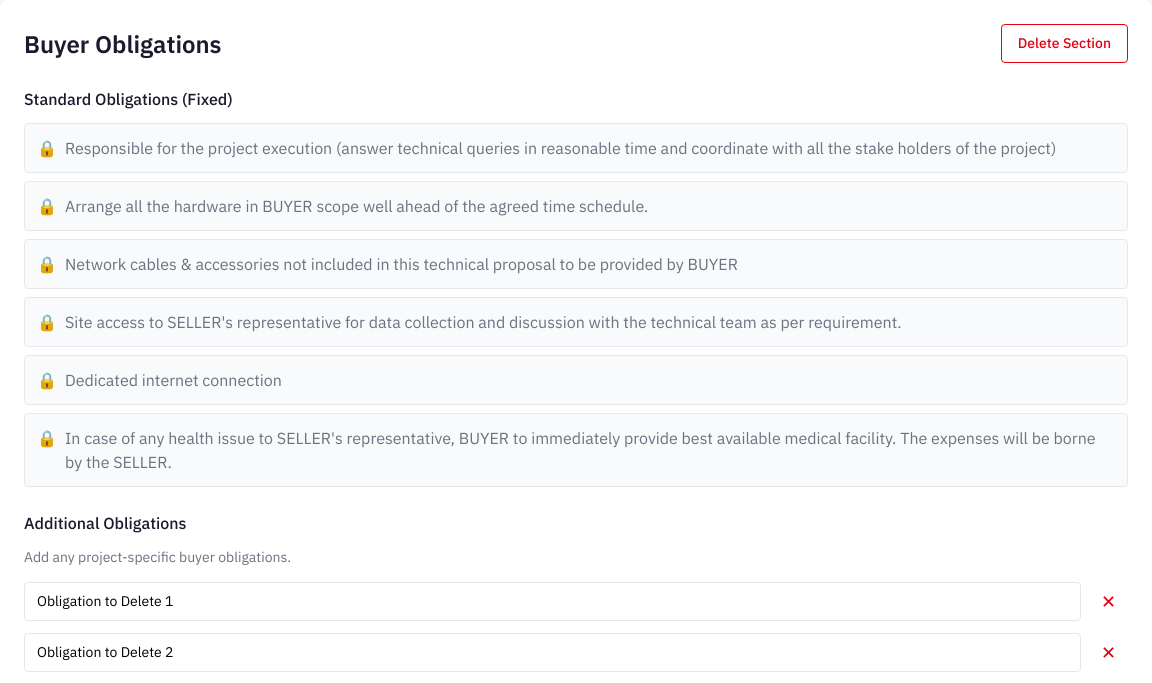
Test: BuyerObligationsSection Preservation - Manual Input Behavior › Property 4: Preservation - Manual Delete Operation › should allow user to manually delete an obligation via DynamicList delete button
User clicks the second delete button (delete "Obligation to Delete 2")
Click the 2nd button titled "Delete item" at (1108,652), box [1089,631,1128,674]
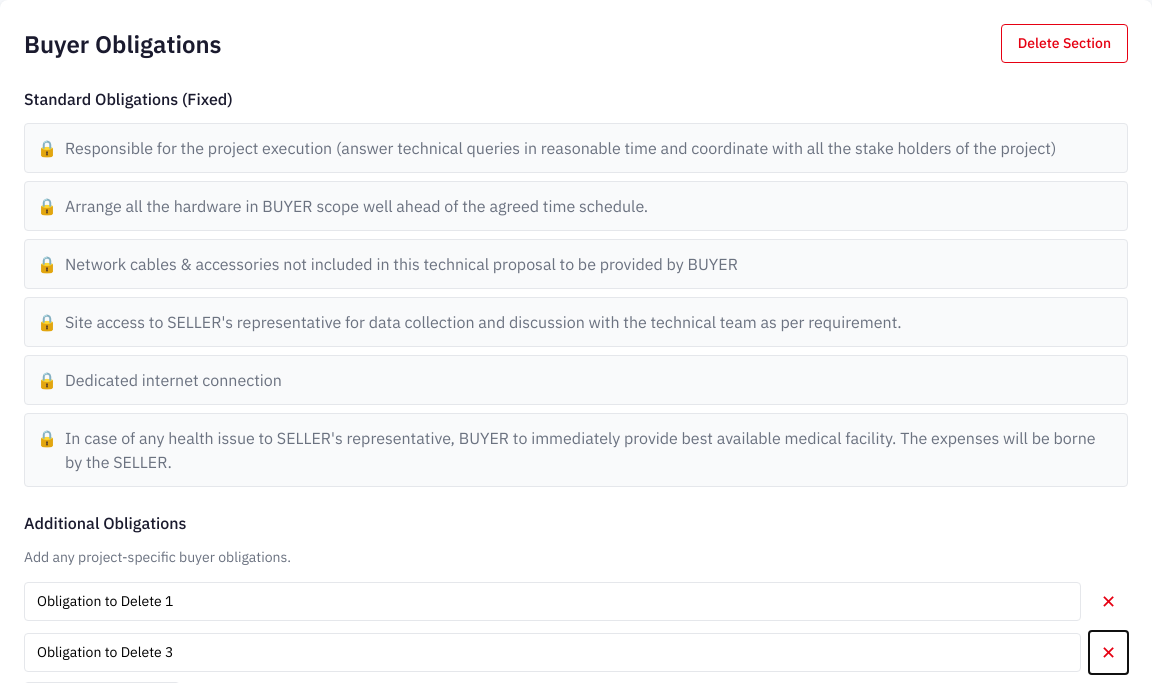
Expected: the 1st field with placeholder "Item 1" holds "Obligation to Delete 1", [24,582,1081,621]
Expected: the number of fields with placeholder "Item 1" is 2, [24,582,1081,621]; [24,633,1081,672]
Expected: the 2nd field with placeholder "Item 2" holds "Obligation to Delete 3", [24,633,1081,672]
